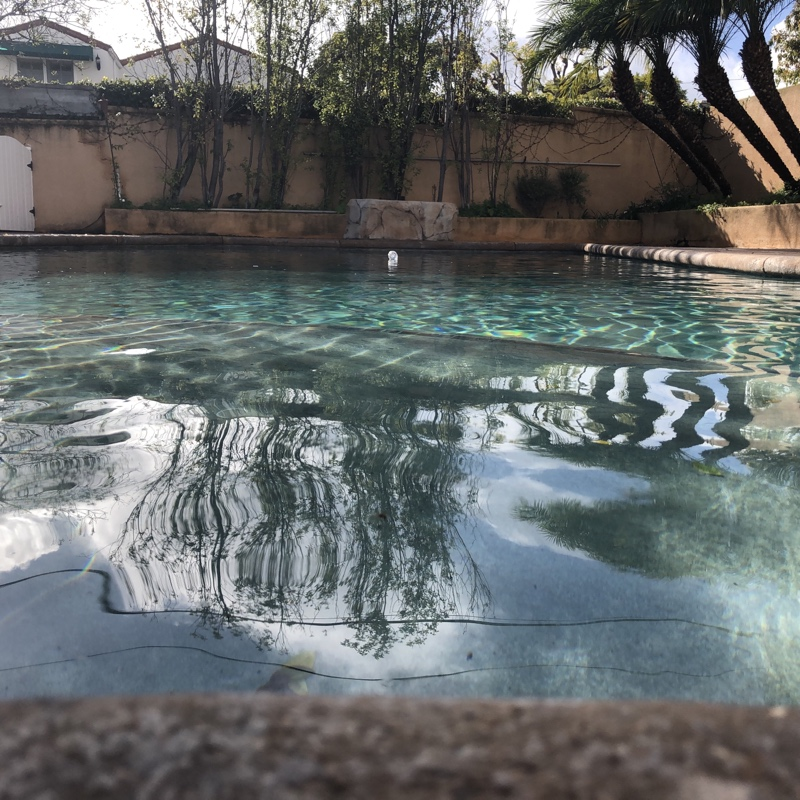Plastic Bottle: (383, 248, 398, 265)
